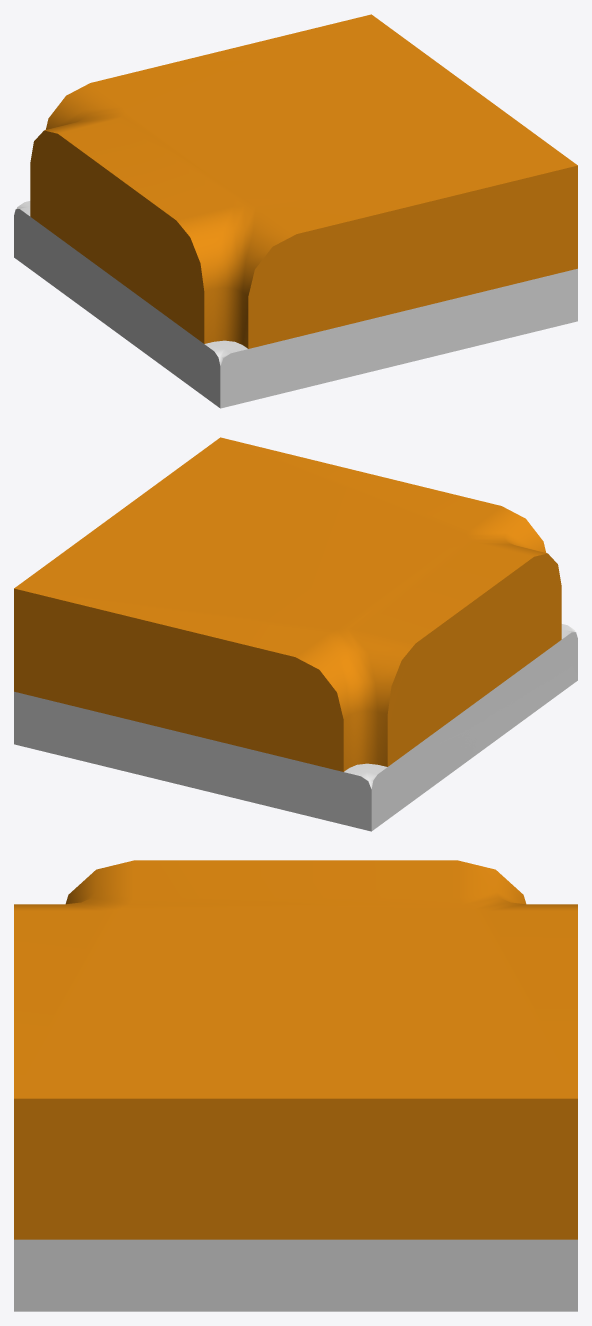
File: Wall_T.fbx
3 views of the same model, one above another, from view 1: azimuth 30°, elevation 25°; view 2: azimuth 150°, elevation 25°; view 3: azimuth 270°, elevation 25° (orthographic). The views are drawn at different scales.
Visible parts, largest first — view 1: Wall_T; view 2: Wall_T; view 3: Wall_T.
Boxes of the visible parts, box(x1,y1,x2,y2) form: Wall_T: box(14, 14, 577, 408); Wall_T: box(14, 437, 577, 831); Wall_T: box(14, 860, 577, 1311).
Size of the model in its own units: 70.82 by 29.5 by 70.82.
